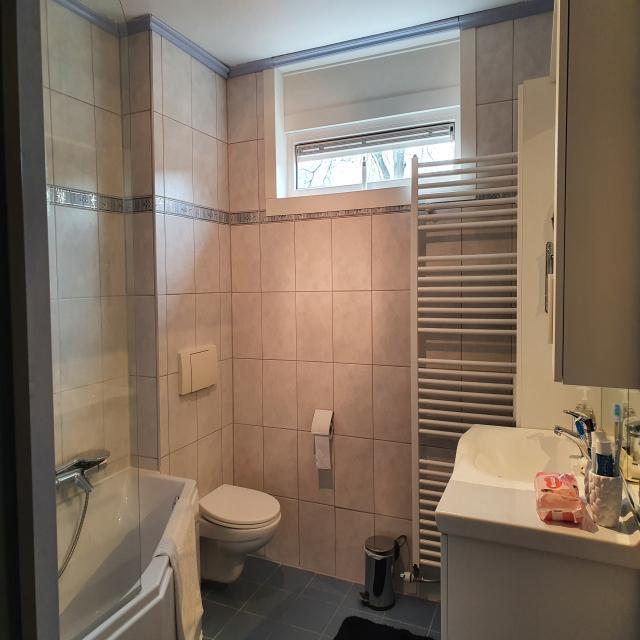bath: (0, 0, 203, 640)
designradiator: (398, 152, 518, 586)
toilet: (178, 340, 282, 584)
wastafel: (434, 406, 640, 572), (438, 528, 640, 640)
